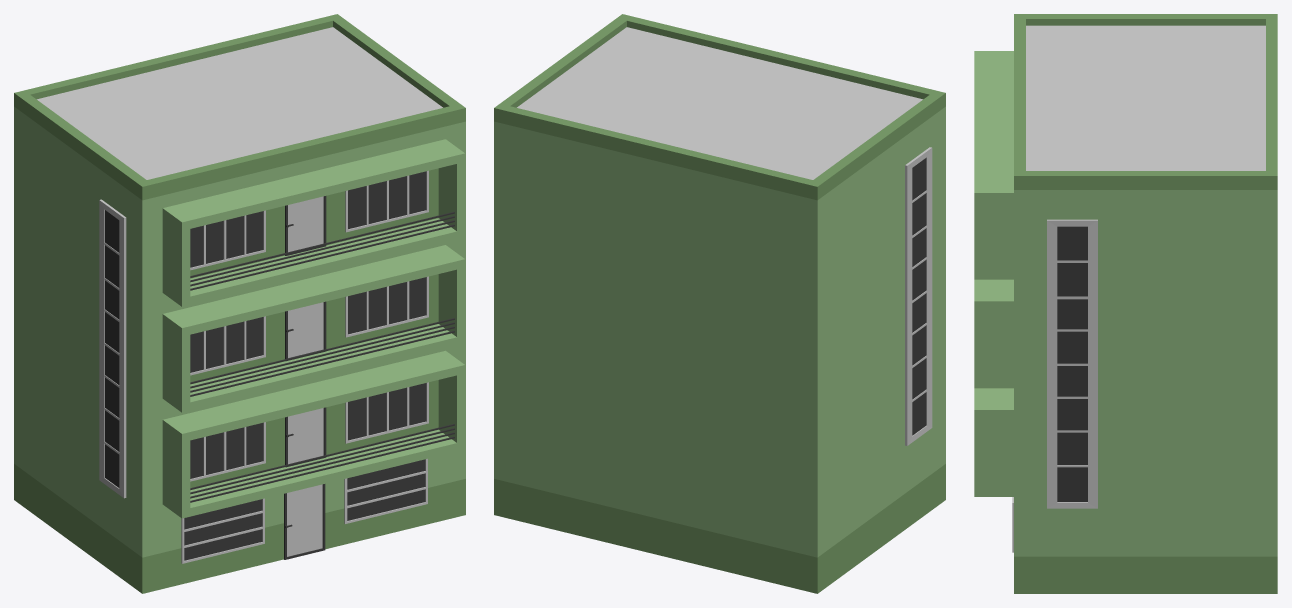
Rendered from building-residential-color01.glb.
3 views of the same model, side by side, from view 1: azimuth 30°, elevation 25°; view 2: azimuth 150°, elevation 25°; view 3: azimuth 270°, elevation 25° (orthographic). The views are drawn at different scales.
Parts seen in each view (by area): view 1: model; view 2: model; view 3: model.
Boxes of the visible parts, x1,y1,x2,y2 form: model: [14, 14, 465, 593]; model: [494, 14, 945, 593]; model: [974, 14, 1277, 593].
Bounding box in the file's own units: 16.23 × 19.24 × 12.66.
Materials: 1 (1 with a texture image).
